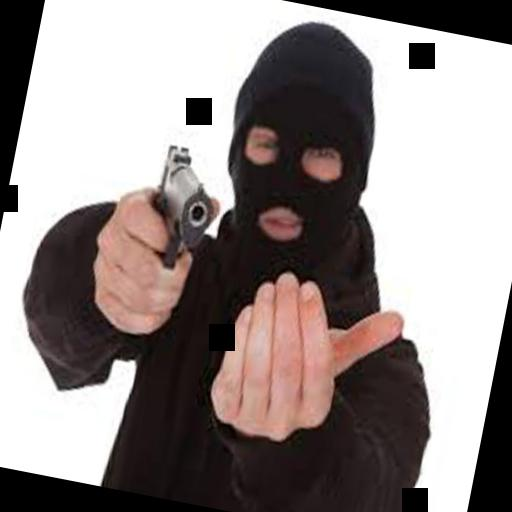Handgun: (138, 138, 222, 280)
